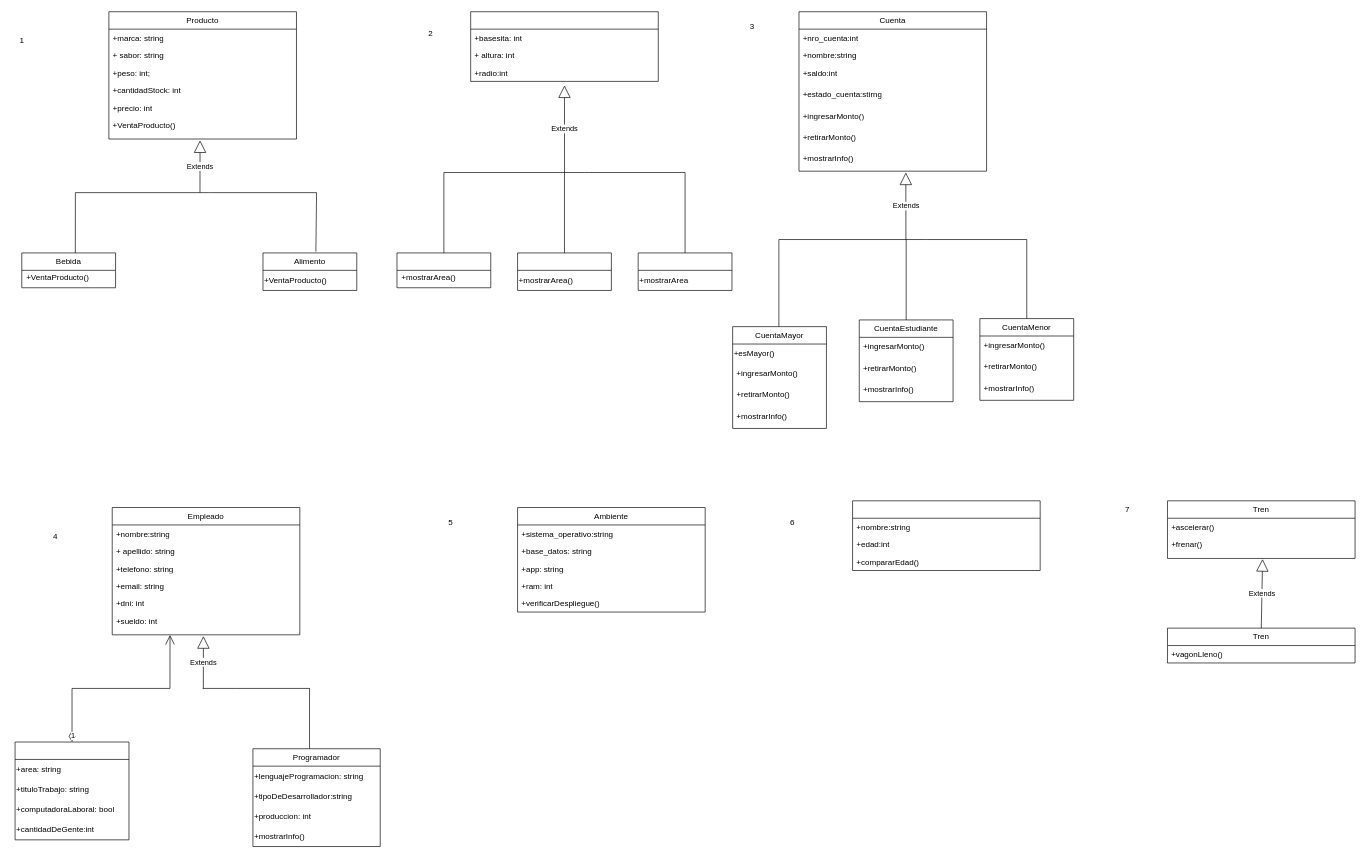
This 1367x858 diagram has some shape labels left out. The box of each missing label's shape, as (x1, y1, x2, y2) in pixels:
Circulo: (638, 252, 732, 290)
Cuadrado: (396, 252, 491, 288)
DtoSistema: (14, 741, 129, 840)
Figura: (470, 11, 658, 81)
Persona: (852, 500, 1040, 571)
Triangulo: (517, 252, 611, 290)
